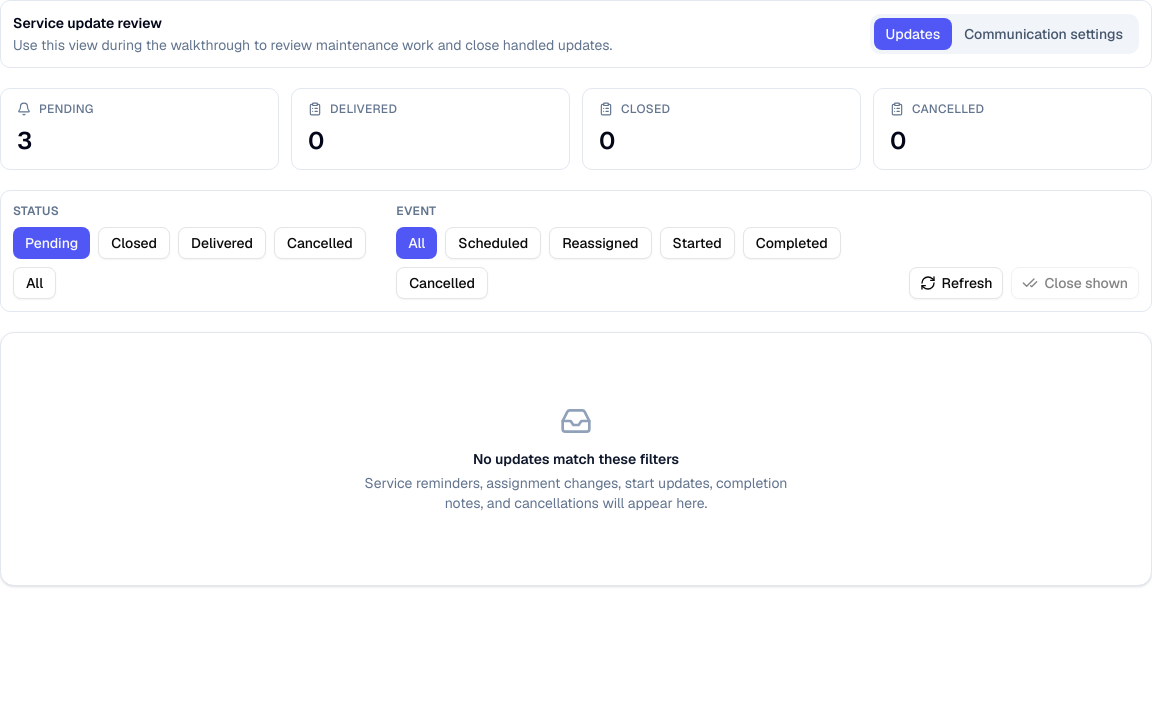
PmNotificationCenter message preview interaction › shows an accessible error when the rendered button request fails
The width and height of the screenshot is (1152, 717).
Click the button "Communication settings" at point(1044, 34), box x1=952 y1=18 x2=1135 y2=50
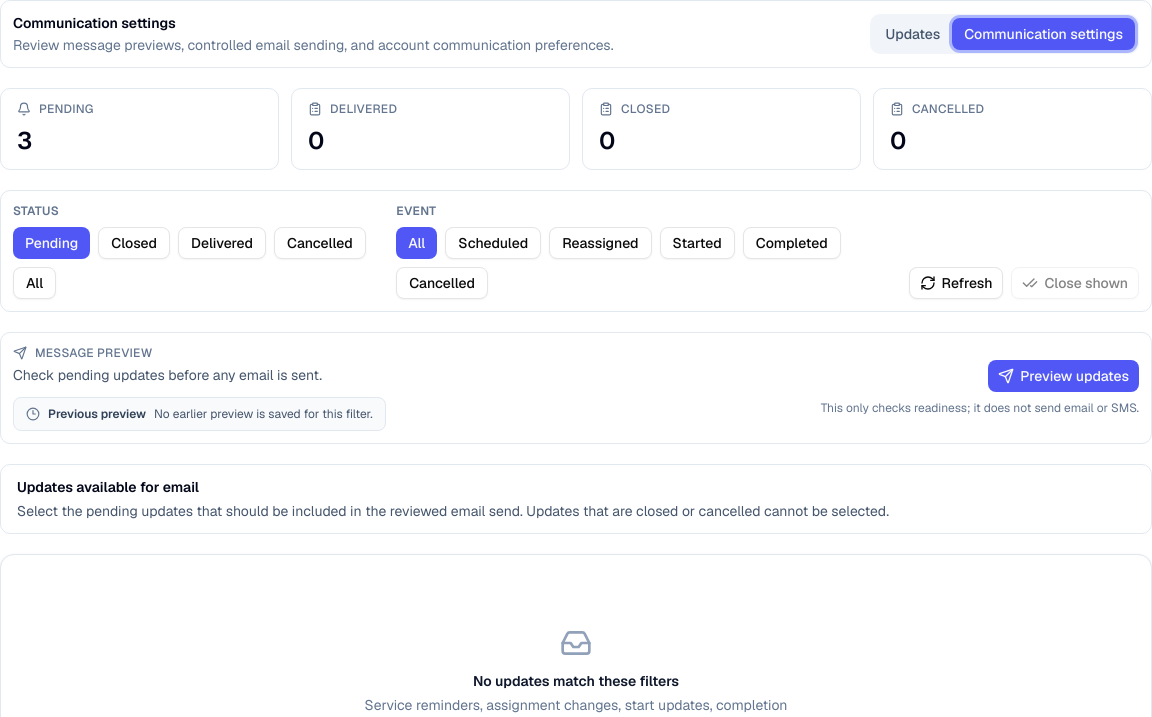
Click the button "Preview updates" at point(1064, 376), box x1=988 y1=360 x2=1139 y2=392
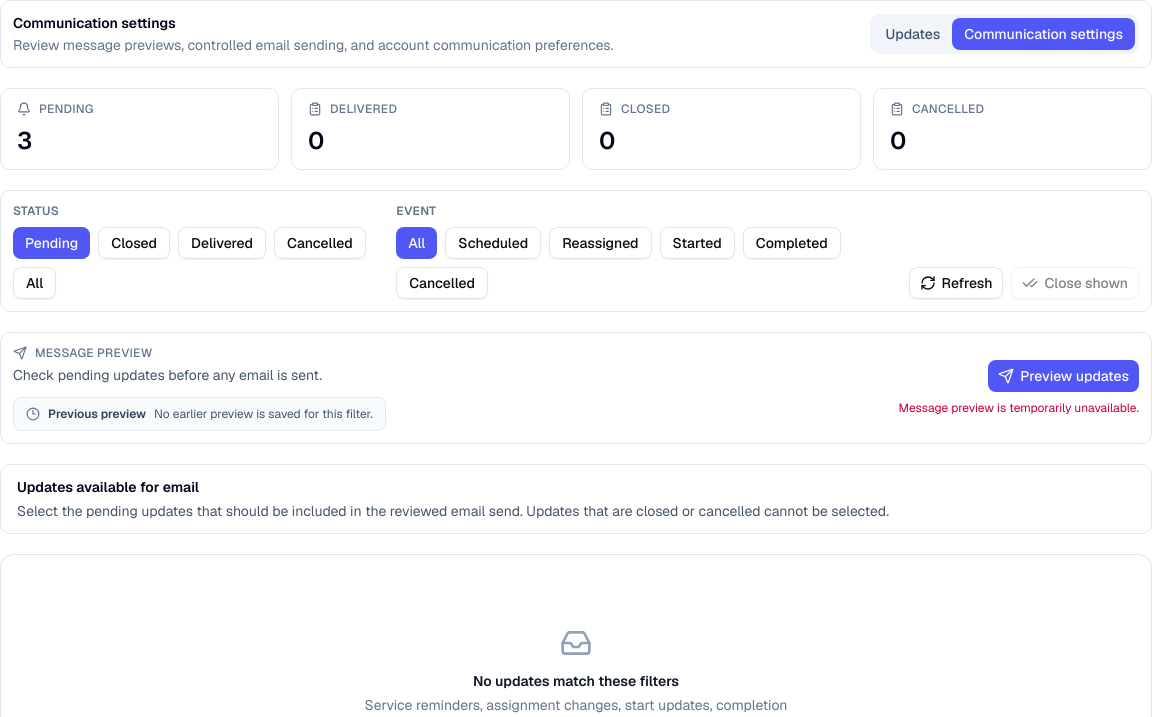
Expected: the button "Preview updates" is enabled, x1=988 y1=360 x2=1139 y2=392
Expected: the message reads "Message preview is temporarily unavailable.", x1=898 y1=400 x2=1139 y2=416
